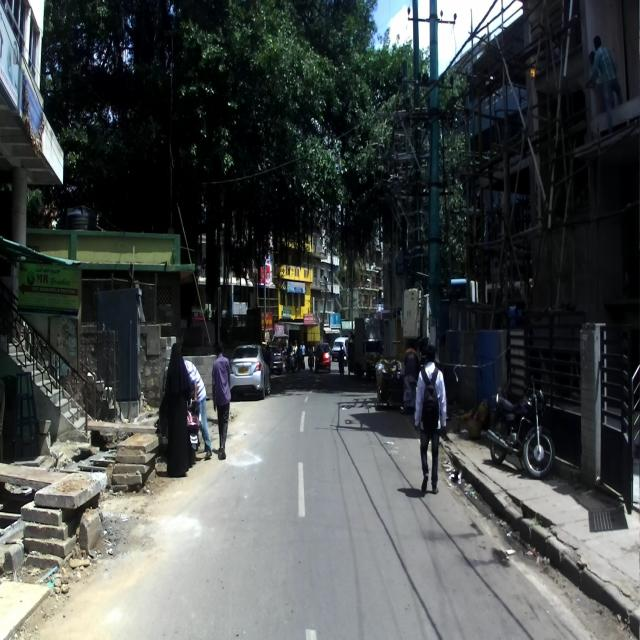motorcycle: (485, 371, 554, 478)
